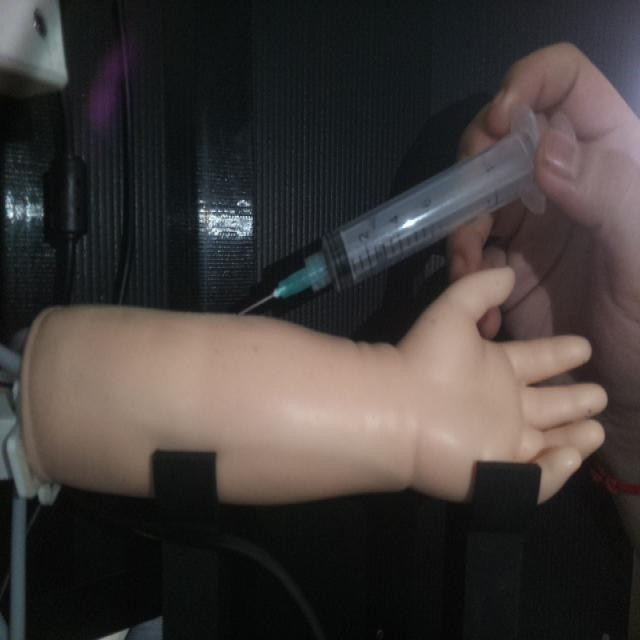Outside: (235, 99, 578, 316)
